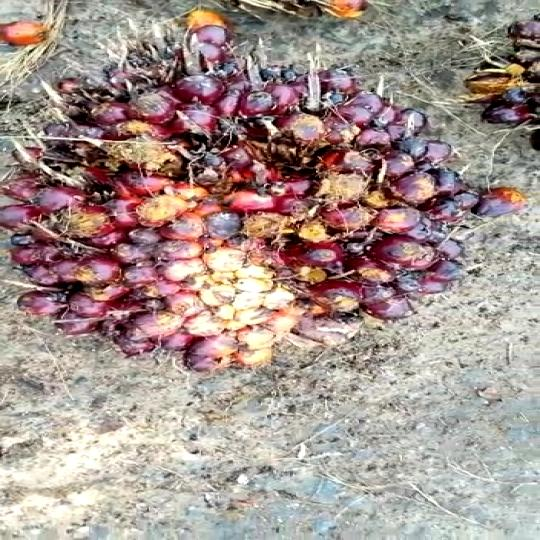masak: (0, 8, 506, 378)
